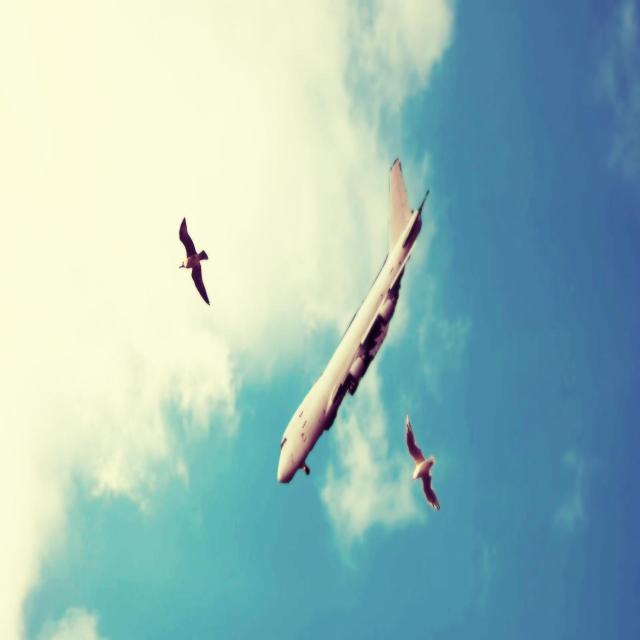airplane: (276, 156, 430, 483)
